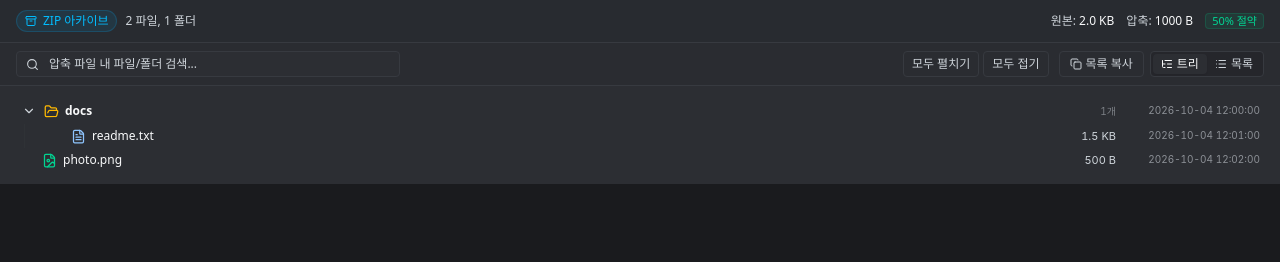
QuickPreviewZipView › toggles between Tree and Table view modes
The width and height of the screenshot is (1280, 262).
Click the button titled "목록 형식으로 보기". click: (1234, 64)
box: [1207, 54, 1261, 74]
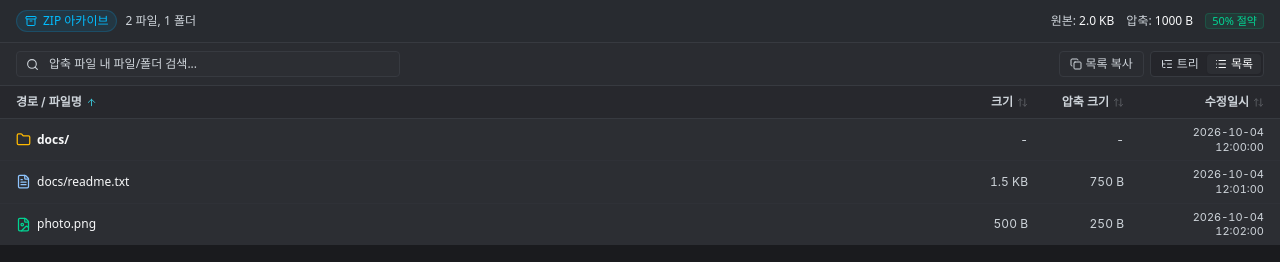
Now the text "경로 / 파일명" is shown, box [16, 94, 82, 110]
Now the text "docs/readme.txt" is shown, box [37, 174, 129, 190]
Click the button titled "트리 형식으로 보기". click: (1180, 64)
box: [1153, 54, 1207, 74]
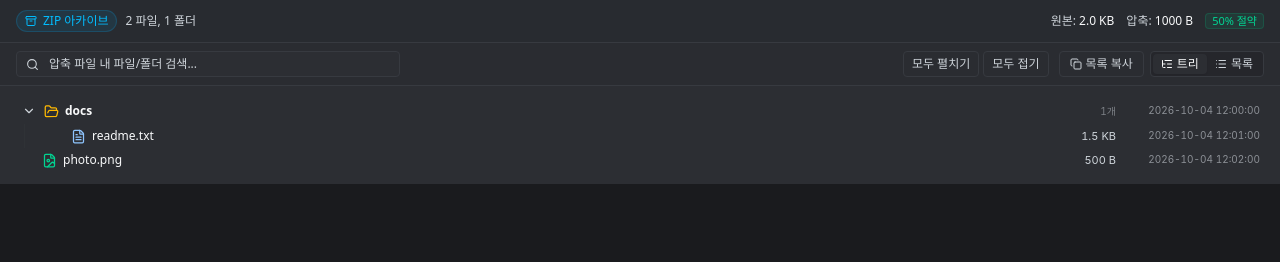
Now the button titled "모두 접기" is shown, box [983, 51, 1049, 77]
